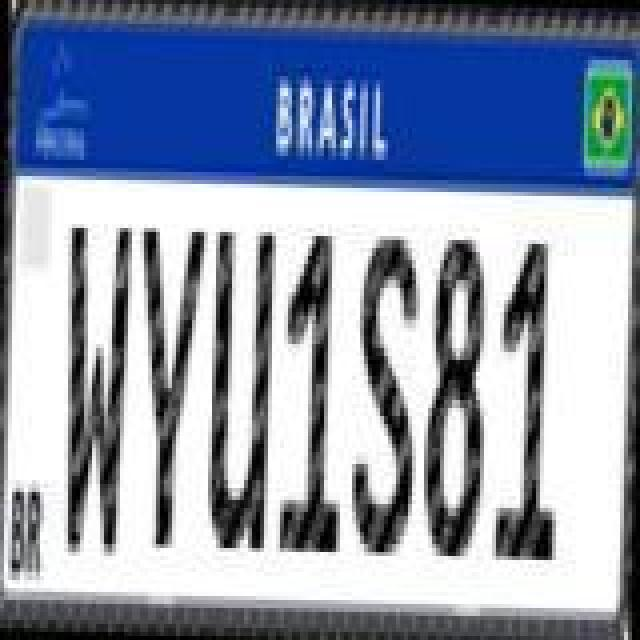1: (274, 226, 350, 558), (490, 234, 566, 566)
8: (420, 232, 492, 560)
S: (346, 230, 422, 554)
U: (202, 226, 278, 558)
W: (58, 222, 134, 562)
Y: (130, 220, 206, 548)
